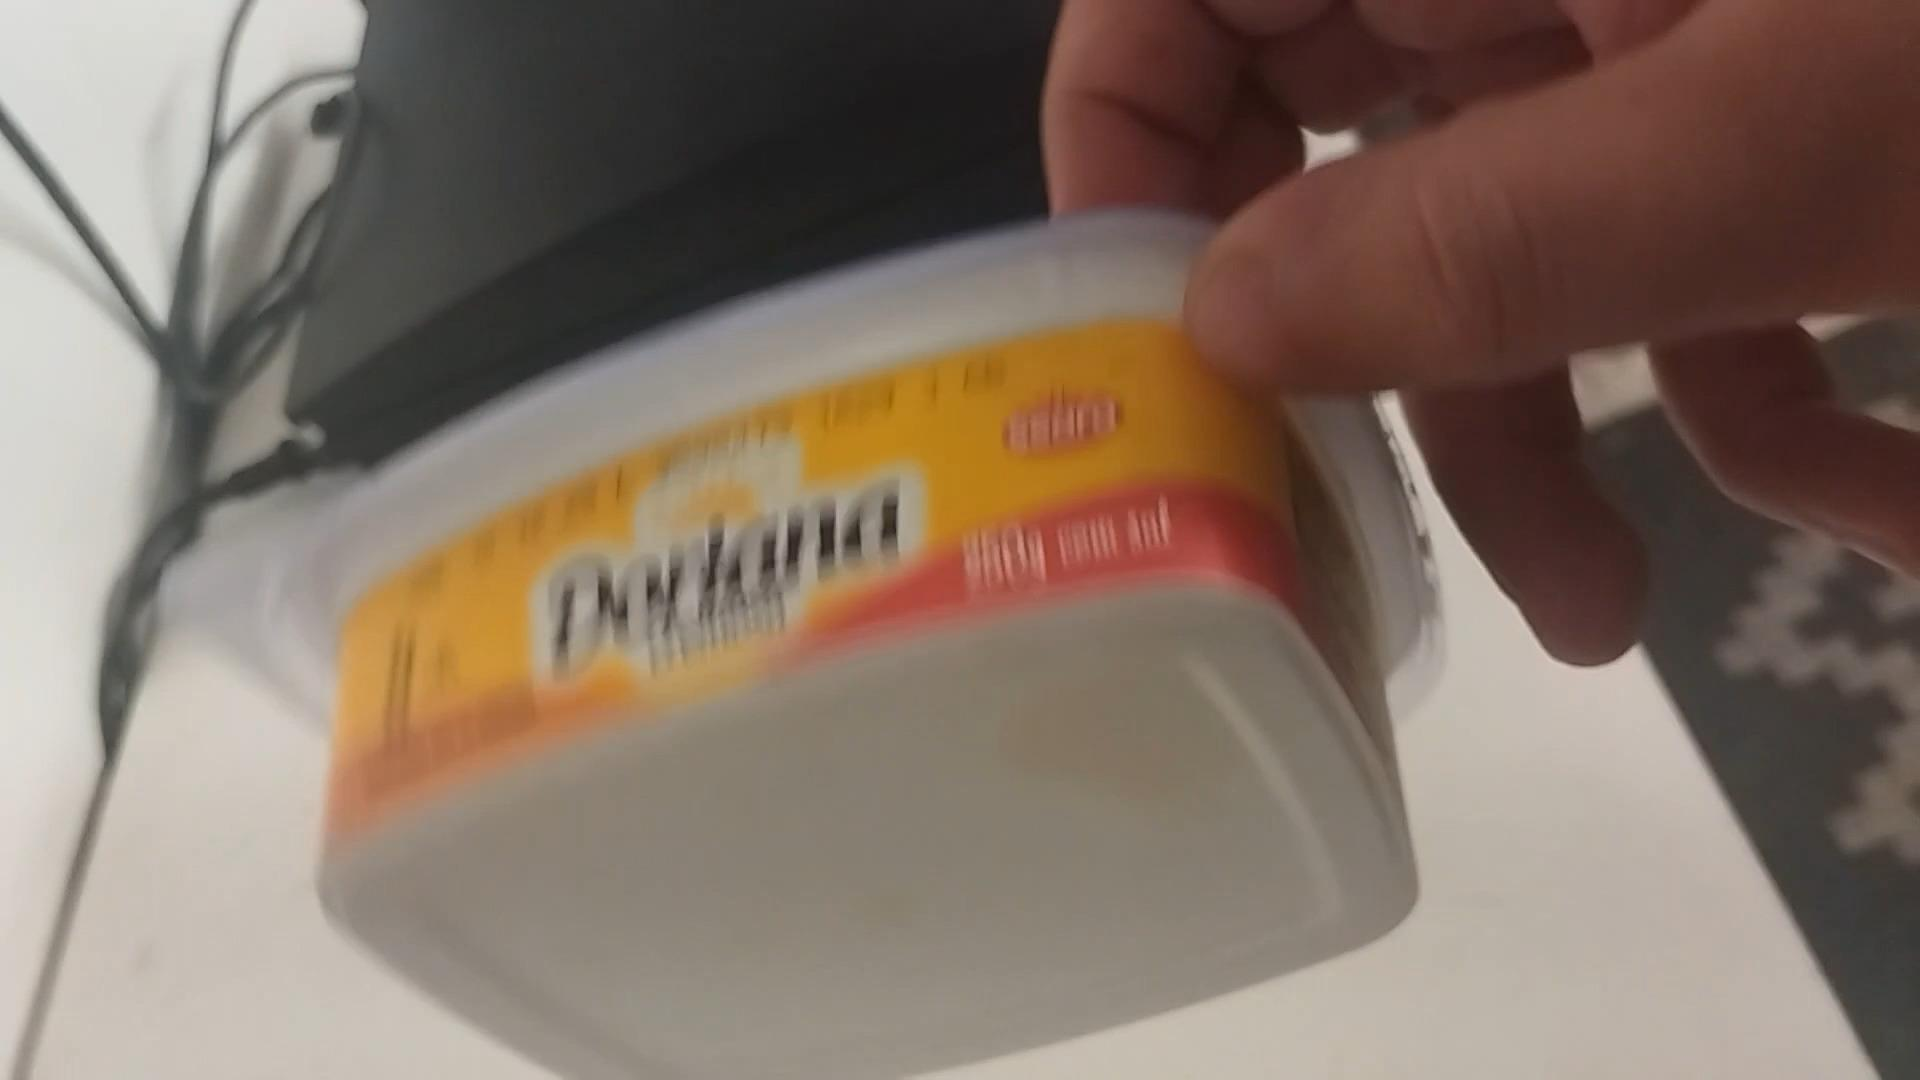butter: (203, 187, 1462, 1077)
